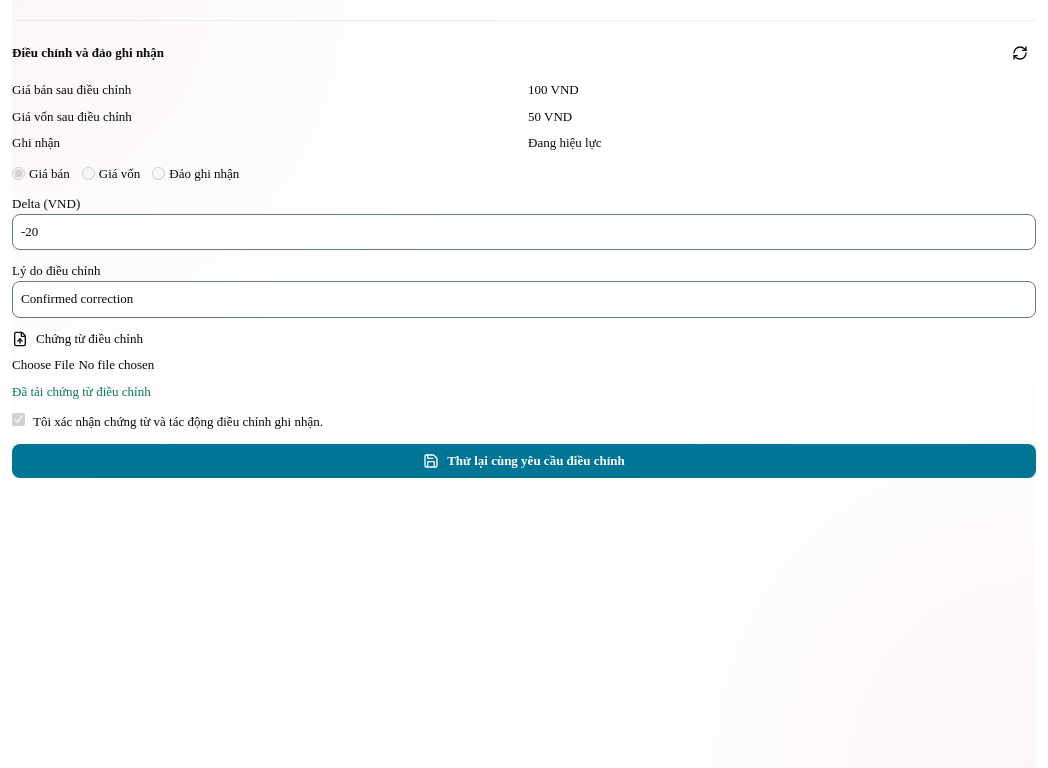
Scenario: preserves the exact pending intent across a lost response and reconciles the persisted retry
Click the button "Thử lại cùng yêu cầu điều chỉnh" at (524, 461), box [12, 444, 1036, 478]
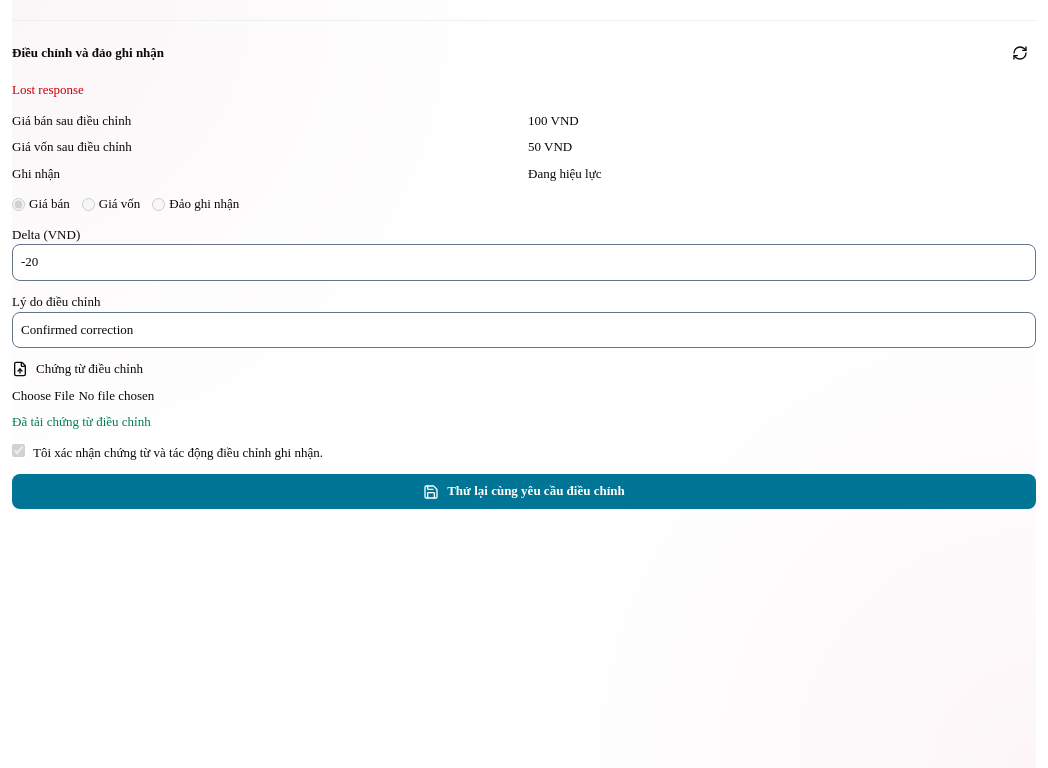
Check: the message "Lost response" is shown, box [12, 82, 84, 97]
Click the button "Thử lại cùng yêu cầu điều chỉnh" at (524, 492), box [12, 474, 1036, 509]
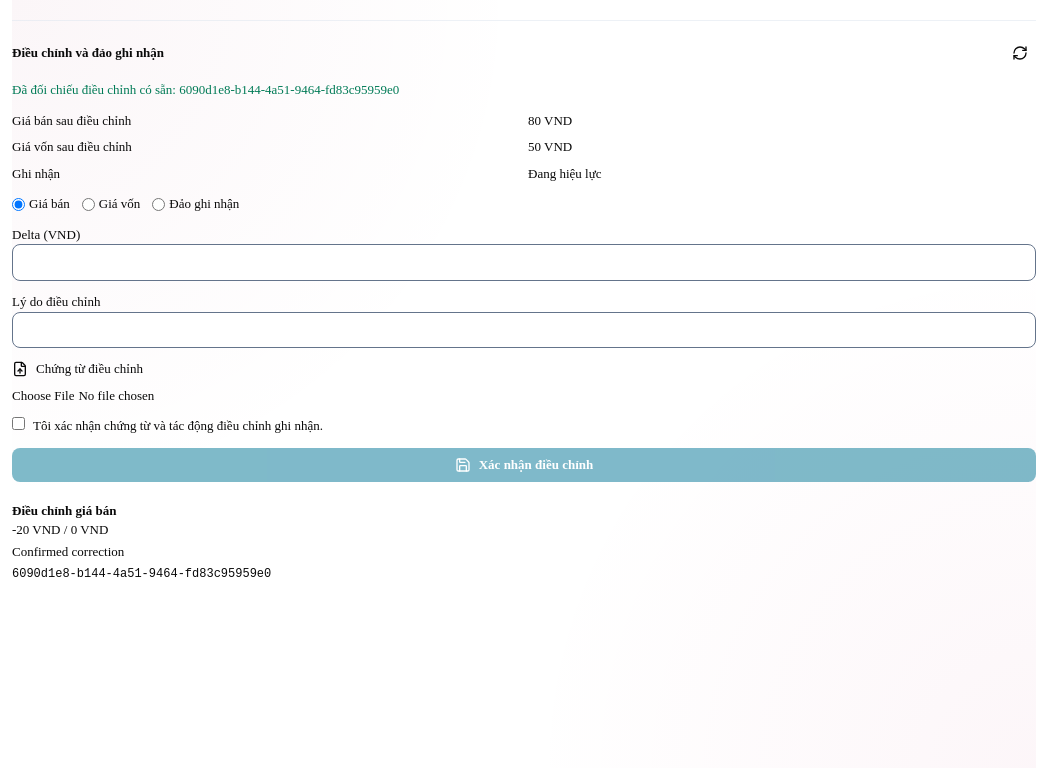
Check: the text with test id "adjusted-sale" reads "80 VND", box [528, 113, 572, 128]
